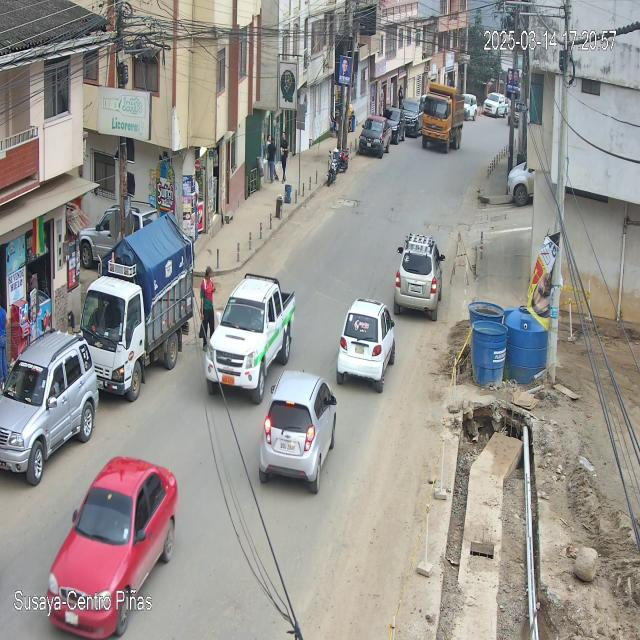CMT: (206, 275, 294, 404)
SED: (45, 458, 178, 640), (259, 369, 337, 494), (337, 299, 396, 391)
SUV: (0, 331, 100, 477), (394, 234, 446, 320)
TRUCK: (83, 211, 196, 397), (422, 85, 463, 151)
